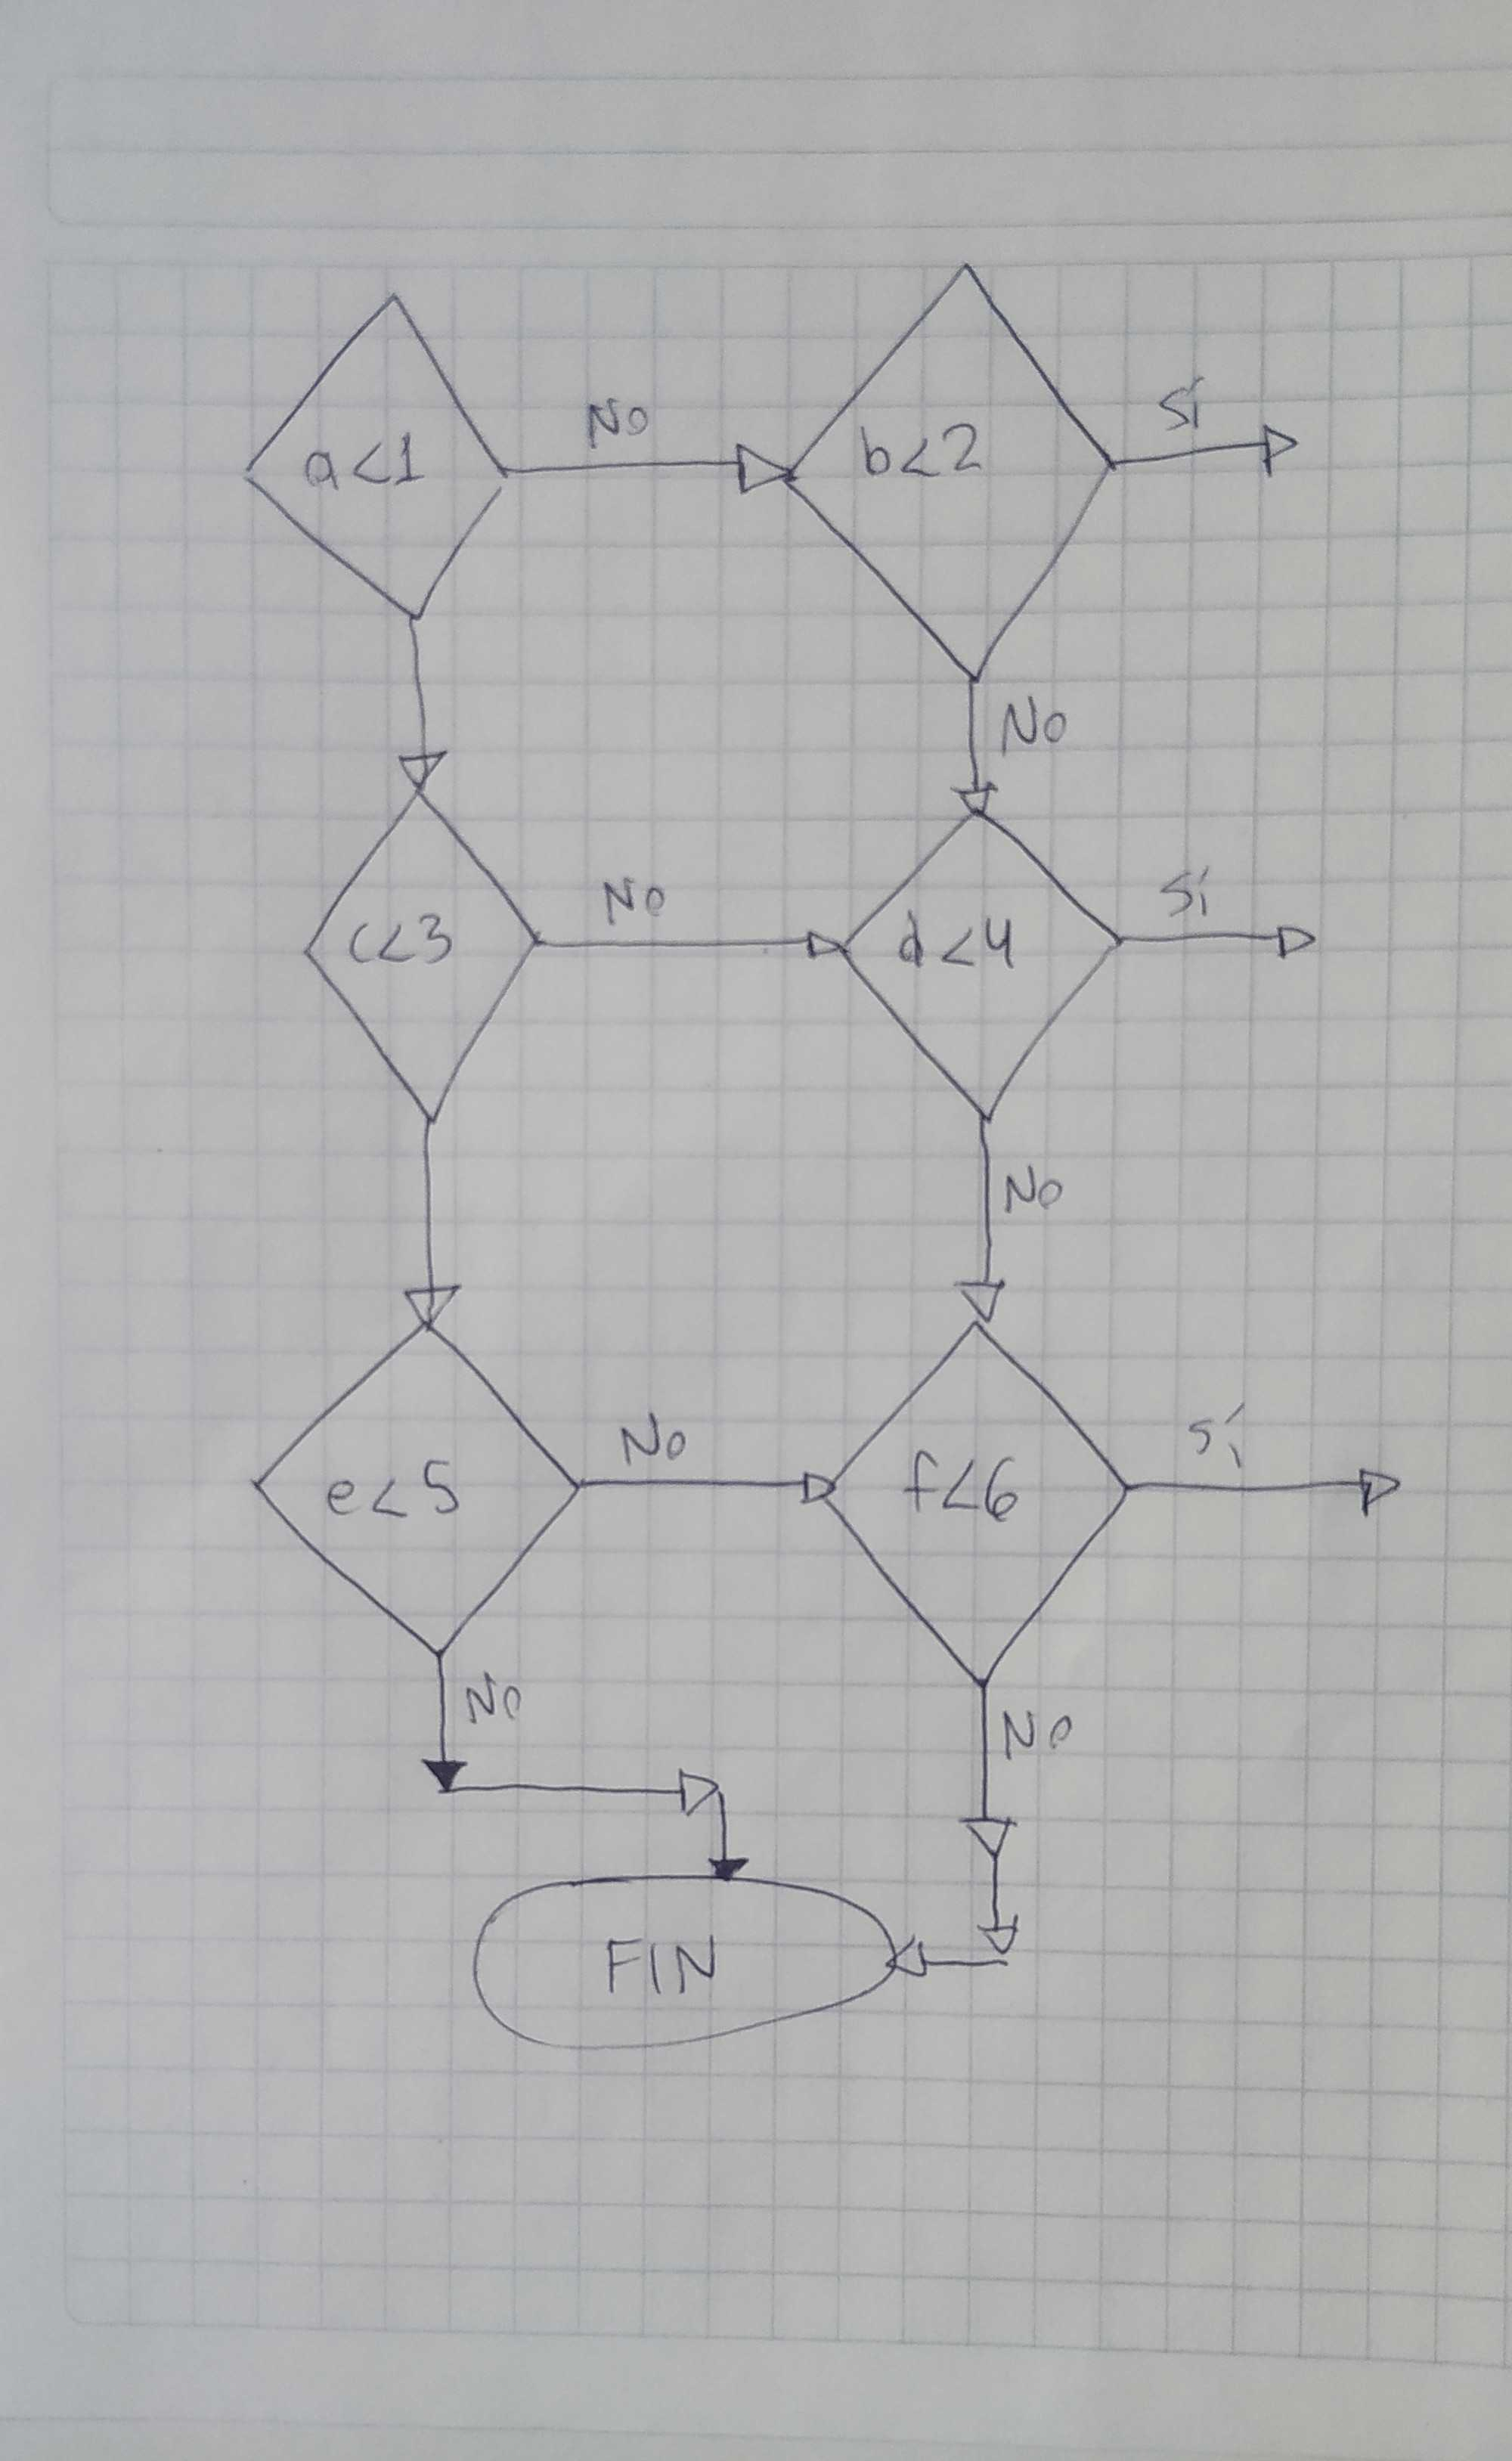arrow_line_down: (941, 1111, 1027, 1325), (392, 1114, 473, 1336), (380, 612, 457, 800), (956, 1679, 1027, 1860), (946, 673, 1013, 814), (415, 1651, 473, 1795), (974, 1853, 1029, 1958), (705, 1781, 751, 1876)
arrow_line_left: (884, 1937, 1013, 1983)
arrow_line_right: (503, 431, 791, 505), (1122, 1450, 1405, 1521), (438, 1765, 723, 1825), (533, 912, 842, 967), (1108, 410, 1313, 487), (575, 1448, 837, 1508), (1120, 898, 1324, 970)
decision: (782, 250, 1136, 694), (819, 1313, 1139, 1693), (239, 1315, 582, 1658), (232, 281, 520, 631), (830, 807, 1127, 1125), (276, 791, 547, 1132)
start_end: (447, 1858, 902, 2062)
